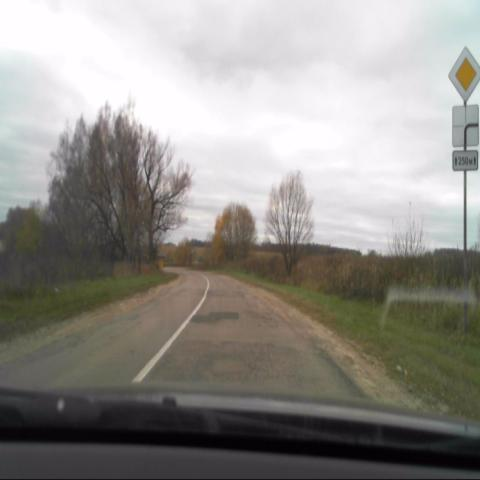8_13: (451, 103, 479, 149)
